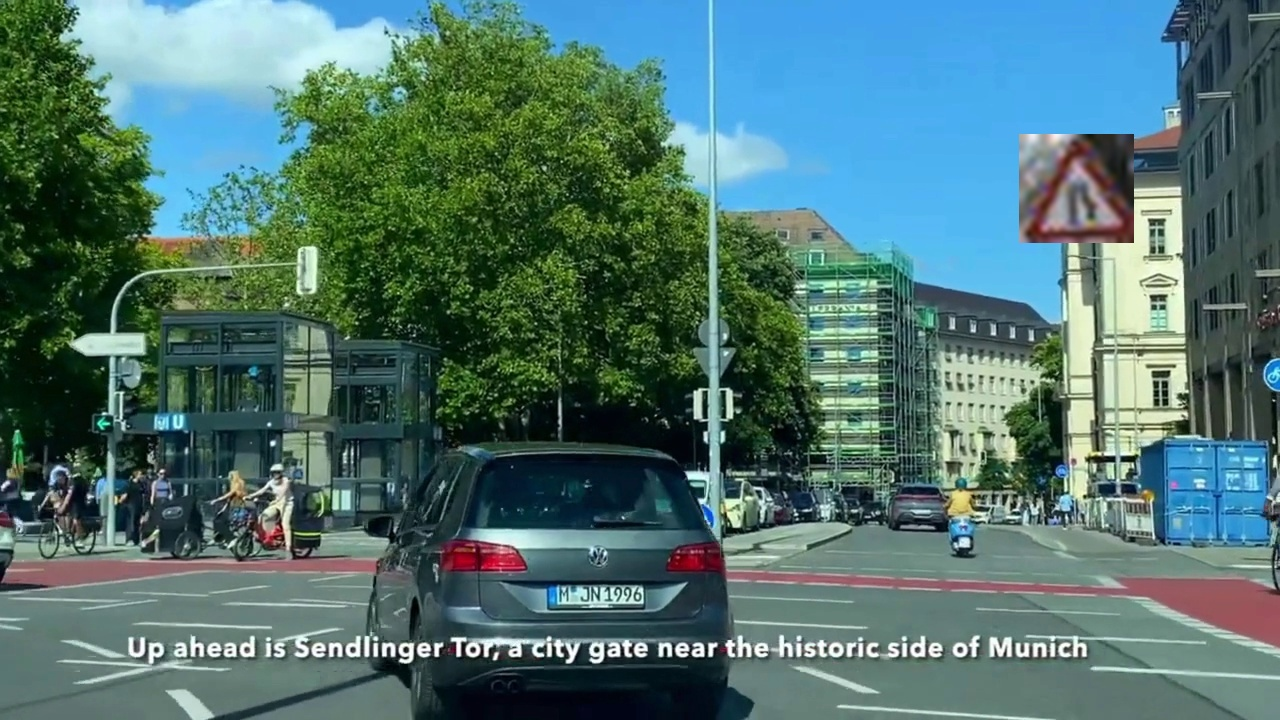Road narrows: (1019, 134, 1134, 243)
